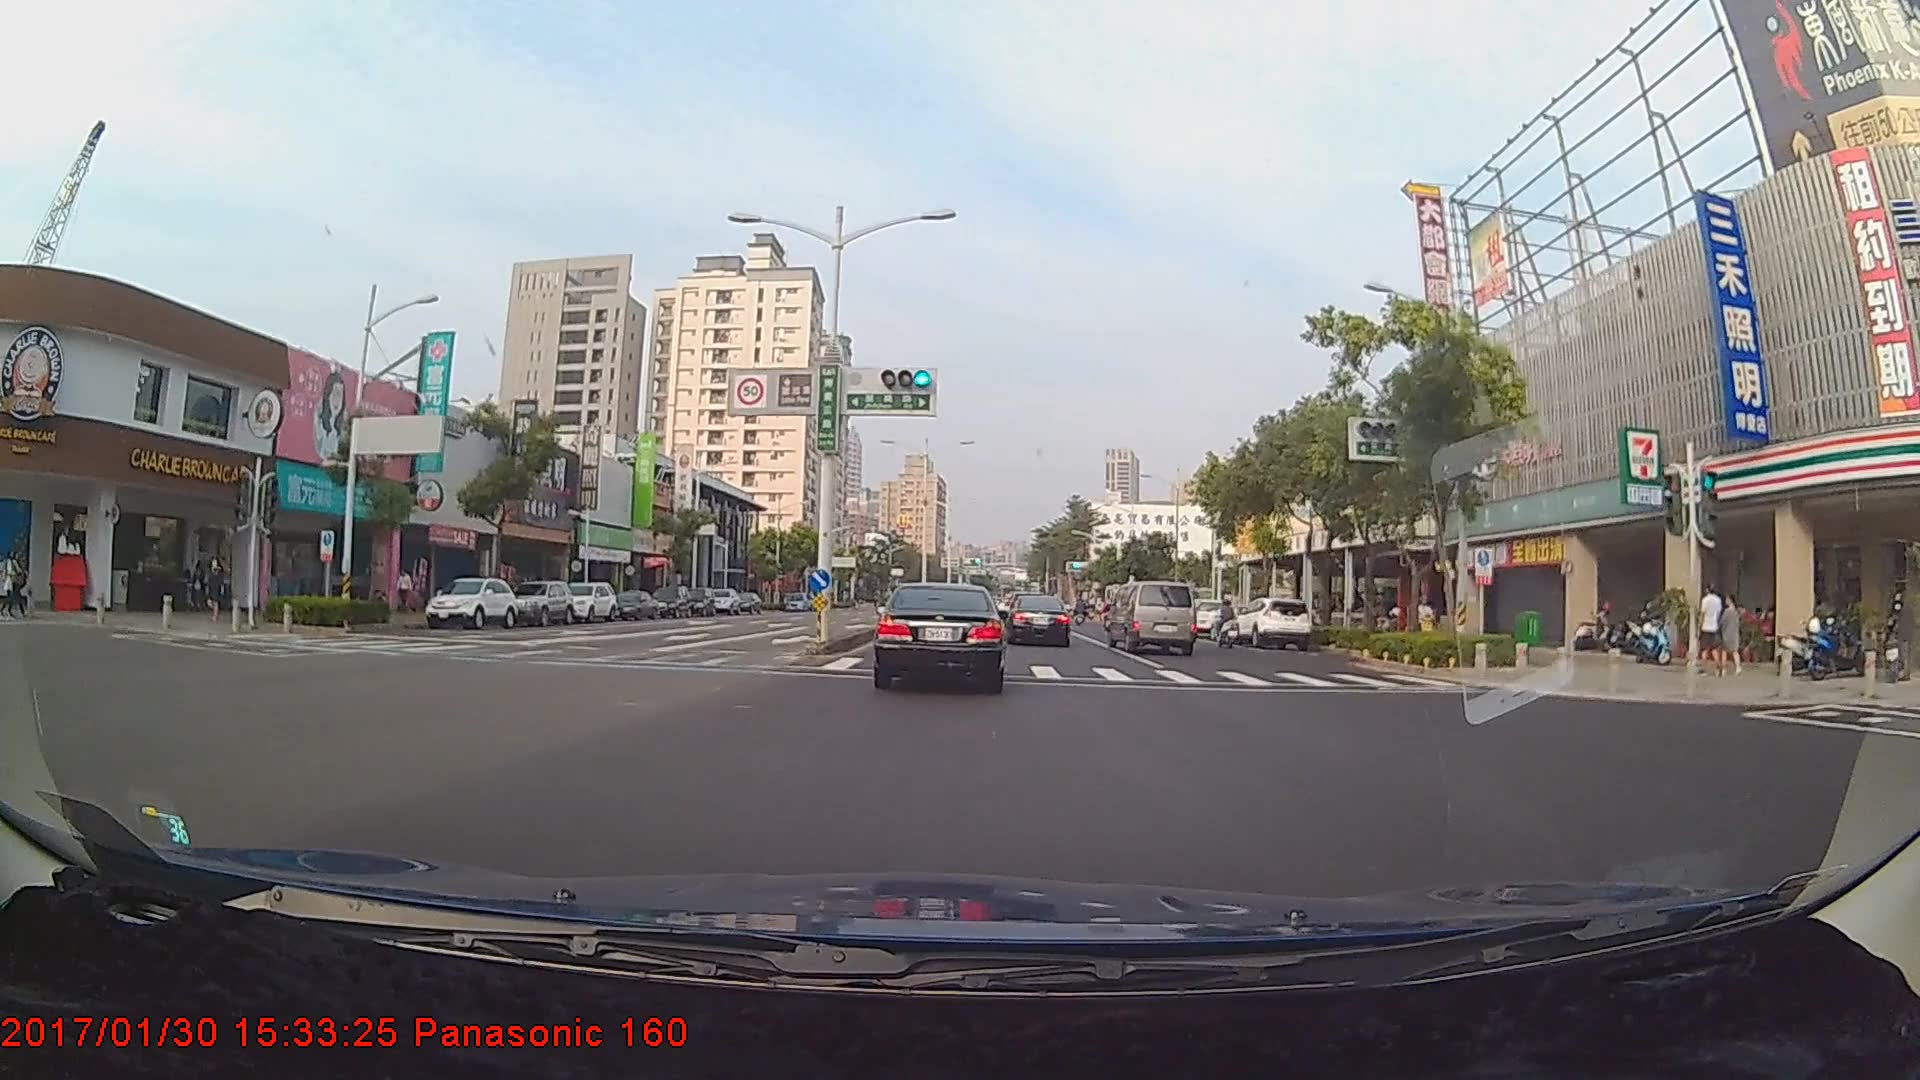pedestrian: (1697, 574, 1728, 677), (1719, 591, 1745, 673), (207, 555, 228, 622), (396, 569, 416, 616)
rider: (1211, 598, 1243, 651)
vehicle: (870, 580, 1003, 690), (1109, 579, 1196, 654), (421, 575, 520, 629), (1228, 594, 1314, 649), (1003, 595, 1071, 648), (504, 576, 573, 623), (558, 582, 618, 624), (648, 582, 693, 617), (612, 587, 658, 617)
